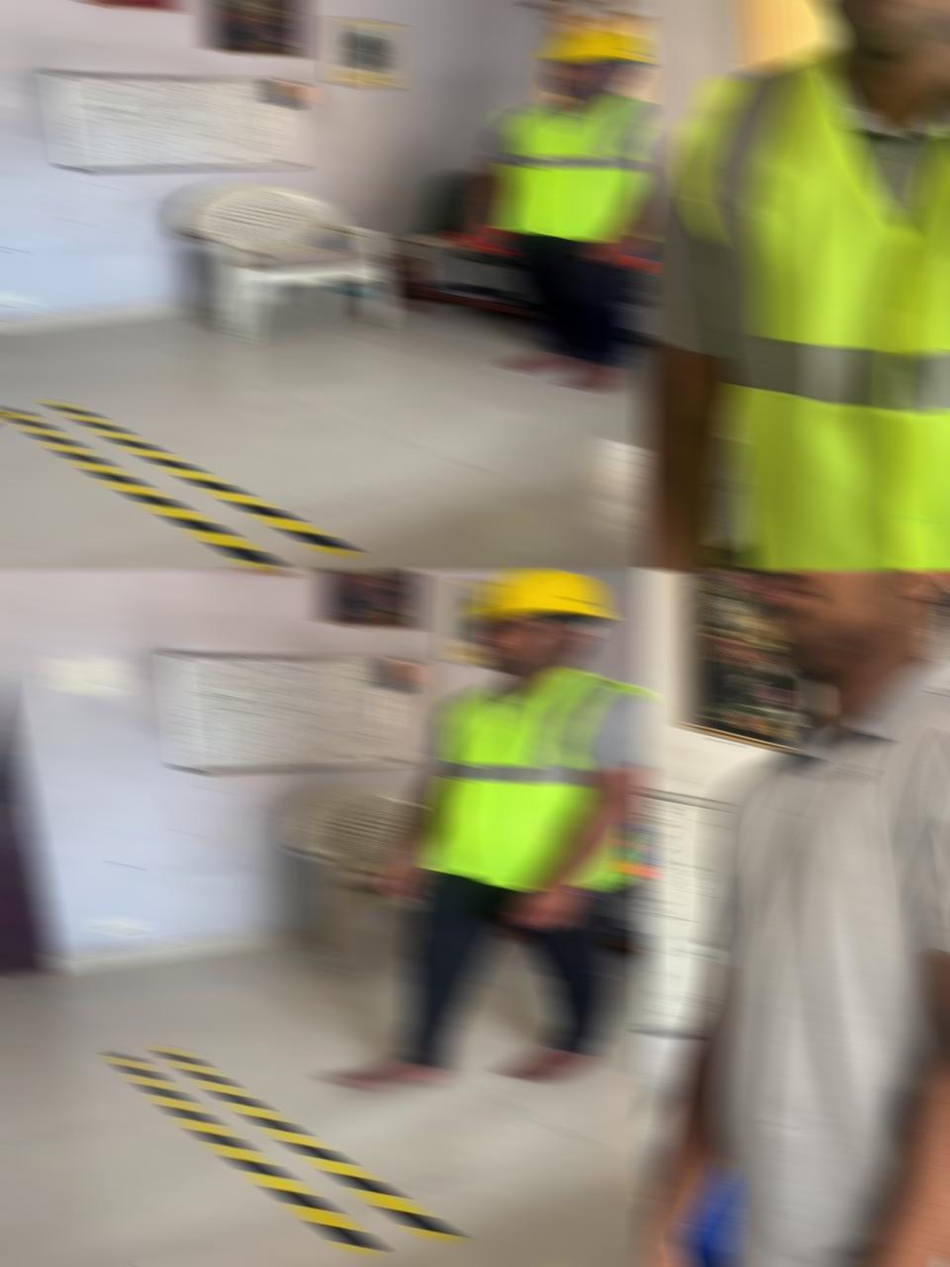BorderLine: (103, 1044, 461, 1254), (0, 399, 361, 570)
Helmet: (460, 569, 615, 623), (534, 30, 650, 64)
No_Vest: (702, 656, 950, 1267)
Person: (640, 569, 950, 1267), (640, 0, 950, 571), (319, 571, 646, 1089), (461, 30, 650, 392)
Vest: (678, 36, 950, 571), (419, 666, 644, 889), (494, 93, 649, 241)
